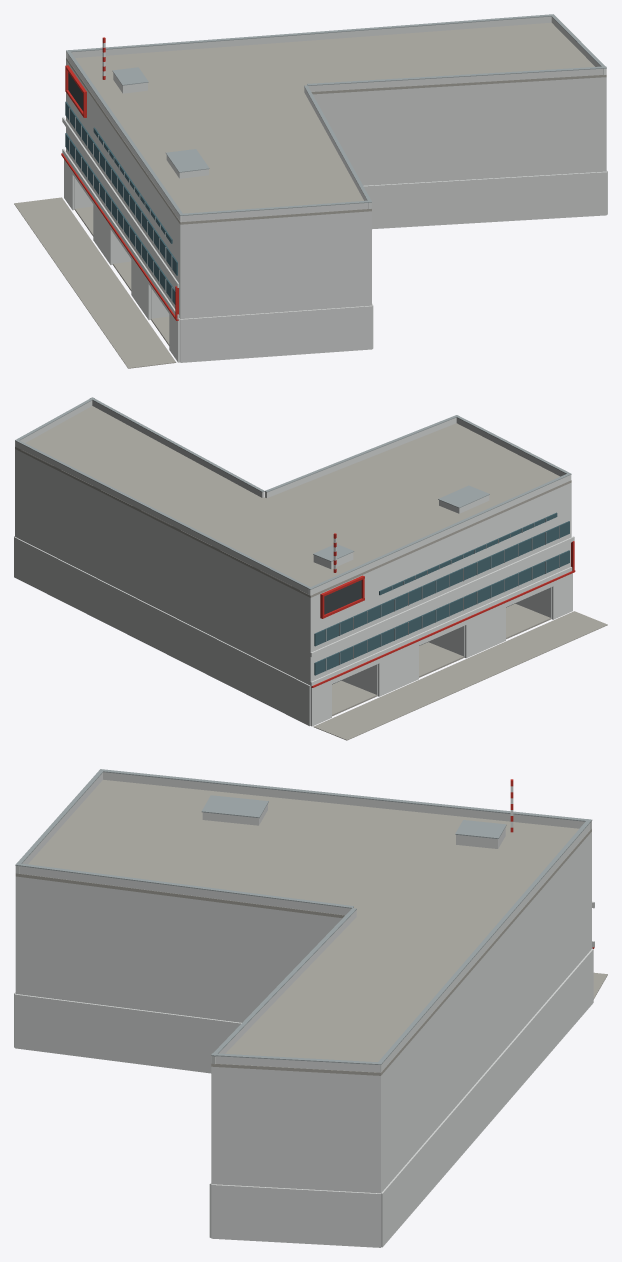
File: Central119Restored.fbx
3 renders of one model, top to bottom at view 1: azimuth 30°, elevation 25°; view 2: azimuth 150°, elevation 25°; view 3: azimuth 270°, elevation 25°, orthographic. The views are drawn at different scales.
Visible parts, largest first — view 1: Upper occupied volume INFERRED_HEIGHT, Observed parapet roof, Unobserved ground wall INFERRED.003, Front apron INFERRED_EXTENT, Unobserved ground wall INFERRED.001, Observed low parapet INFERRED height, Observed low parapet INFERRED height.004, Observed horizontal glazing band.001, Observed horizontal glazing band, Parapet coping INFERRED section, Observed low parapet INFERRED height.002, Source footprint ground slab (+12 smaller); view 2: Upper occupied volume INFERRED_HEIGHT, Observed parapet roof, Unobserved ground wall INFERRED, Front apron INFERRED_EXTENT, Observed horizontal glazing band, Observed horizontal glazing band.001, Source footprint ground slab, Observed low parapet INFERRED height, Observed low parapet INFERRED height.001, White horizontal spandrel.001, Apparatus pier.002, Apparatus pier.001 (+17 smaller); view 3: Upper occupied volume INFERRED_HEIGHT, Observed parapet roof, Unobserved ground wall INFERRED, Unobserved ground wall INFERRED.002, Unobserved ground wall INFERRED.004, Observed low parapet INFERRED height.001, Observed low parapet INFERRED height.003, Parapet coping INFERRED section.001, Observed low parapet INFERRED height, Parapet coping INFERRED section, Observed low parapet INFERRED height.005, Parapet coping INFERRED section.003 (+5 smaller).
Boxes of the visible parts, bbox=[...] form: Upper occupied volume INFERRED_HEIGHT: bbox=[66, 60, 606, 318]; Observed parapet roof: bbox=[66, 22, 606, 224]; Unobserved ground wall INFERRED.003: bbox=[363, 171, 606, 229]; Front apron INFERRED_EXTENT: bbox=[14, 197, 176, 368]; Unobserved ground wall INFERRED.001: bbox=[180, 305, 372, 362]; Observed low parapet INFERRED height: bbox=[66, 16, 551, 58]; Observed low parapet INFERRED height.004: bbox=[308, 68, 603, 91]; Observed horizontal glazing band.001: bbox=[65, 101, 177, 275]; Observed horizontal glazing band: bbox=[65, 133, 175, 304]; Parapet coping INFERRED section: bbox=[66, 14, 553, 52]; Observed low parapet INFERRED height.002: bbox=[180, 203, 371, 221]; Source footprint ground slab: bbox=[75, 206, 169, 345]; Upper occupied volume INFERRED_HEIGHT: bbox=[15, 449, 571, 685]; Observed parapet roof: bbox=[15, 406, 571, 597]; Unobserved ground wall INFERRED: bbox=[14, 537, 310, 726]; Front apron INFERRED_EXTENT: bbox=[313, 611, 607, 740]; Observed horizontal glazing band: bbox=[314, 550, 569, 675]; Observed horizontal glazing band.001: bbox=[314, 521, 569, 646]; Source footprint ground slab: bbox=[332, 603, 550, 716]; Observed low parapet INFERRED height: bbox=[15, 441, 312, 595]; Observed low parapet INFERRED height.001: bbox=[308, 475, 570, 595]; White horizontal spandrel.001: bbox=[310, 536, 574, 657]; Apparatus pier.002: bbox=[464, 606, 505, 658]; Apparatus pier.001: bbox=[377, 646, 418, 696]; Upper occupied volume INFERRED_HEIGHT: bbox=[15, 832, 591, 1193]; Observed parapet roof: bbox=[15, 779, 591, 1075]; Unobserved ground wall INFERRED: bbox=[381, 949, 593, 1247]; Unobserved ground wall INFERRED.002: bbox=[15, 994, 241, 1073]; Unobserved ground wall INFERRED.004: bbox=[211, 1184, 380, 1247]; Observed low parapet INFERRED height.001: bbox=[103, 772, 591, 829]; Observed low parapet INFERRED height.003: bbox=[19, 866, 353, 915]; Parapet coping INFERRED section.001: bbox=[99, 769, 591, 821]; Observed low parapet INFERRED height: bbox=[380, 823, 590, 1072]; Parapet coping INFERRED section: bbox=[377, 819, 592, 1064]; Observed low parapet INFERRED height.005: bbox=[211, 1056, 381, 1072]; Parapet coping INFERRED section.003: bbox=[15, 863, 353, 908].
Bounding box in the file's own units: 5671 × 1848 × 4400.
